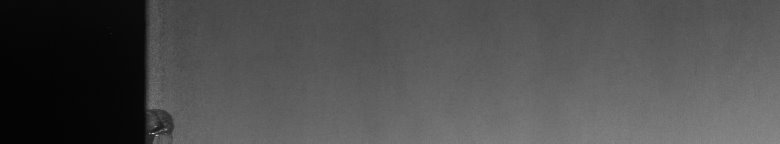hb: (156, 100, 180, 136)
